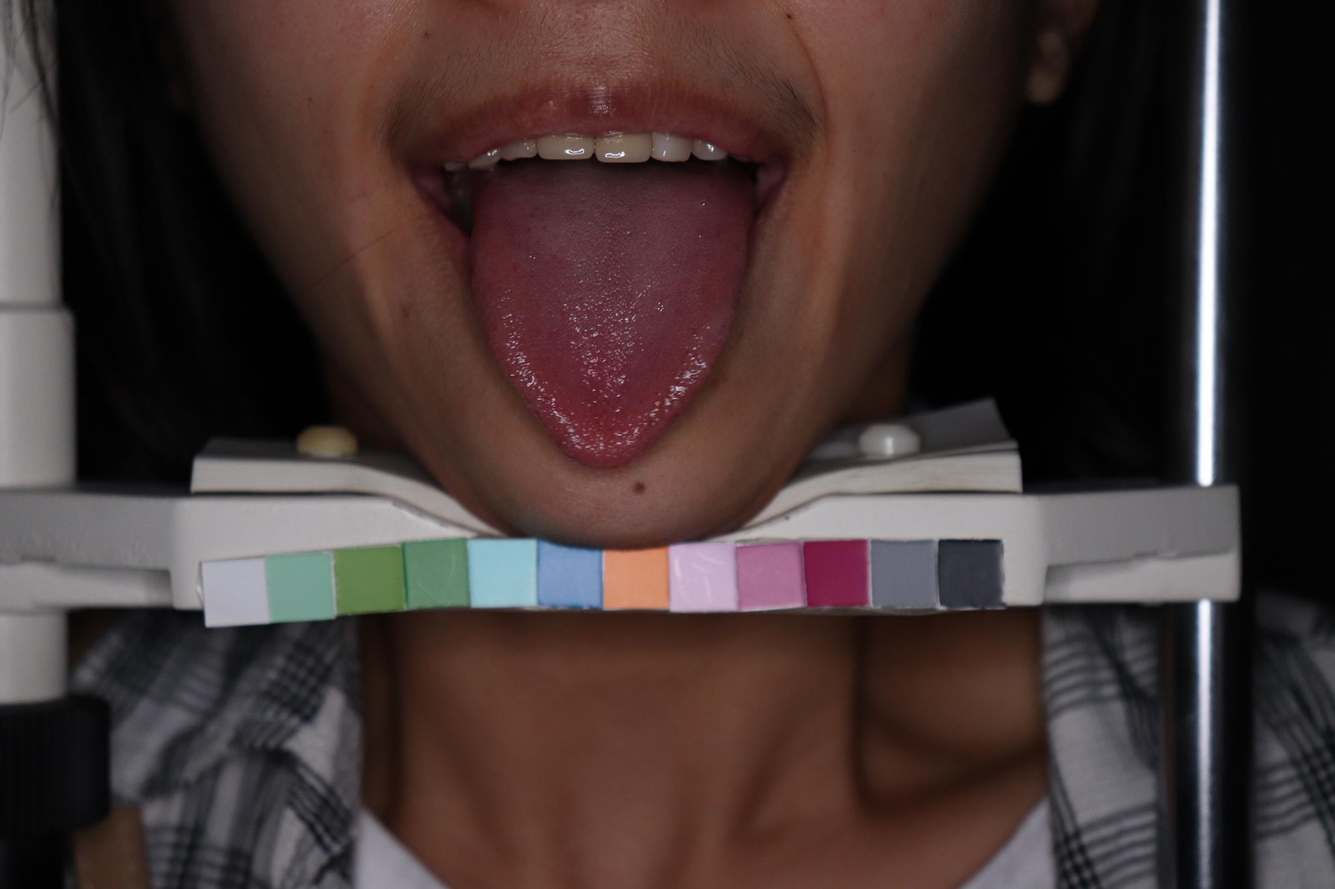hongshe: (469, 165, 750, 468)
